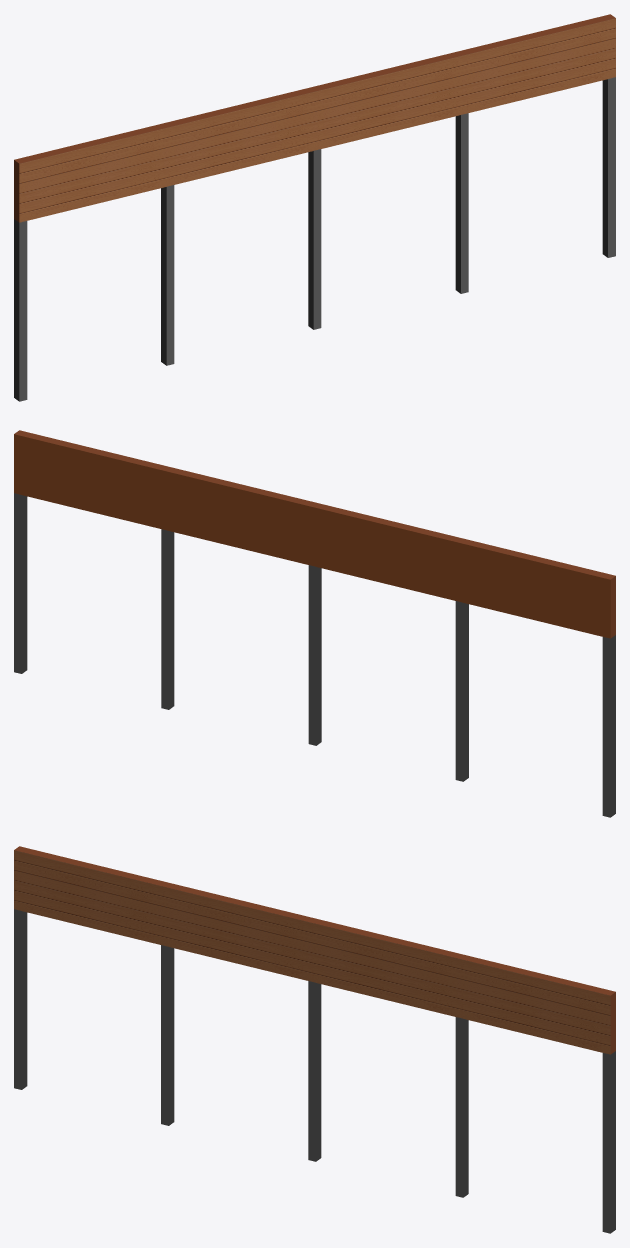
File: stage3.fbx
3 renders of one model, top to bottom at view 1: azimuth 30°, elevation 25°; view 2: azimuth 150°, elevation 25°; view 3: azimuth 330°, elevation 25°, orthographic.
Visible parts, largest first — view 1: Cube.002; view 2: Cube.002; view 3: Cube.002.
Part boxes in pixels (<box>): Cube.002: <box>14,14,615,401</box>; Cube.002: <box>14,430,615,817</box>; Cube.002: <box>14,846,615,1233</box>.
Size of the model in its own units: 6490 by 2474 by 102.
1 material, 1 textured.
